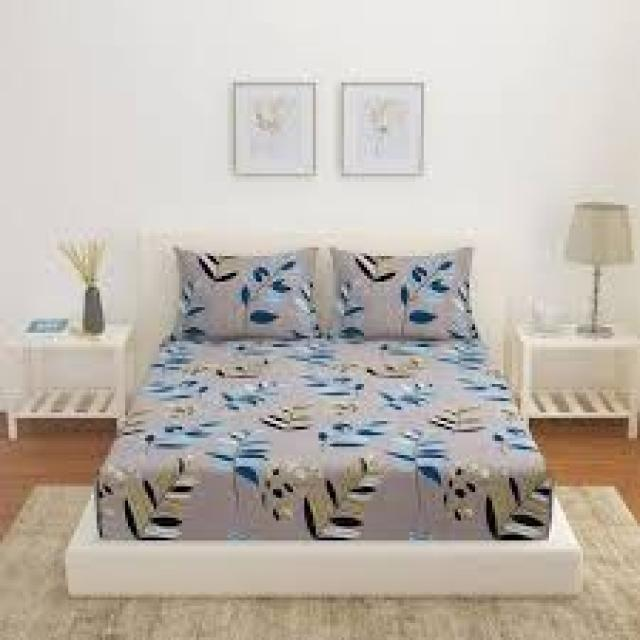bed: (62, 225, 584, 598)
